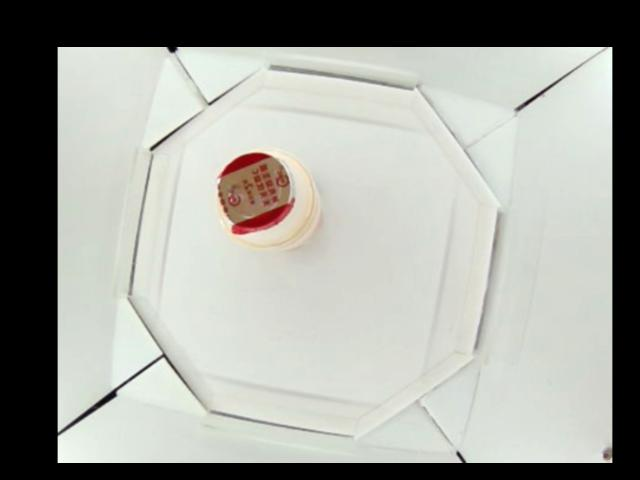Bottle: (216, 148, 321, 252)
